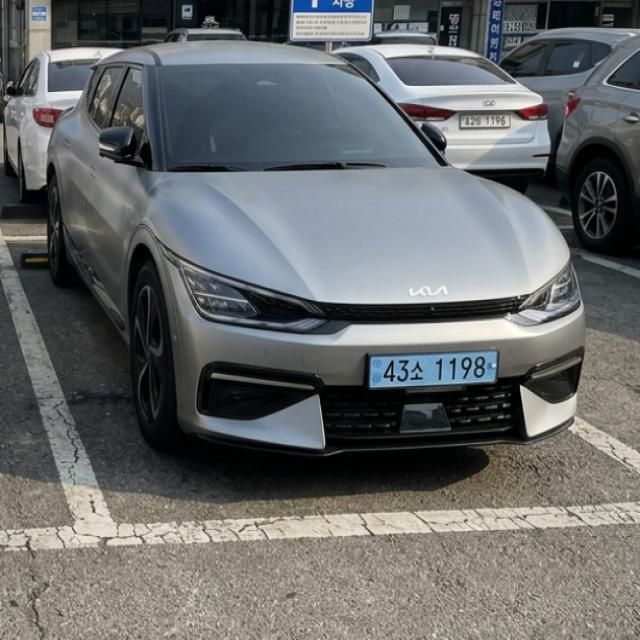car: (356, 343, 510, 403)
carev: (367, 351, 383, 390), (486, 351, 498, 385)
